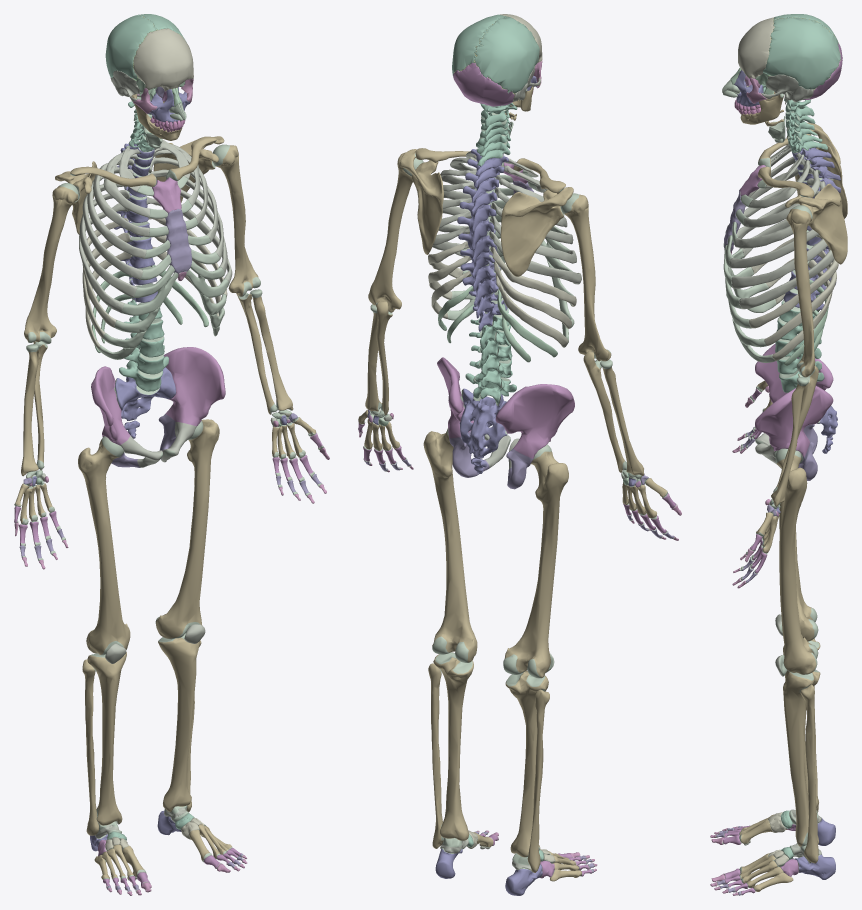
Rendered from bones.glb.
3 views of the same model, side by side, from view 1: azimuth 30°, elevation 25°; view 2: azimuth 150°, elevation 25°; view 3: azimuth 270°, elevation 25° (orthographic). The views are drawn at different scales.
Visible parts, largest first — view 1: femur__r, femur__l, hip_bone__l, tibia__l, frontal_bone, tibia__r, humerus__r, humerus__l, hip_bone__r, parietal_bone__r, sacrum, fibula__r (+18 smaller); view 2: femur__r, femur__l, hip_bone__r, scapula__r, parietal_bone__r, tibia__l, tibia__r, humerus__r, humerus__l, hip_bone__l, scapula__l, sacrum (+15 smaller); view 3: femur__l, parietal_bone__l, tibia__l, hip_bone__l, humerus__l, scapula__l, fibula__l, frontal_bone, hip_bone__r, radius__l, femur__r, seventh_rib__l (+28 smaller).
Boxes of the visible parts, bbox=[...] form: femur__r: bbox=[78, 436, 130, 655]; femur__l: bbox=[155, 419, 219, 639]; hip_bone__l: bbox=[158, 347, 225, 462]; tibia__l: bbox=[158, 633, 200, 811]; frontal_bone: bbox=[133, 28, 193, 91]; tibia__r: bbox=[87, 652, 126, 825]; humerus__r: bbox=[24, 183, 78, 344]; humerus__l: bbox=[212, 144, 260, 296]; hip_bone__r: bbox=[91, 366, 162, 467]; parietal_bone__r: bbox=[105, 15, 157, 79]; sacrum: bbox=[115, 367, 175, 420]; fibula__r: bbox=[82, 659, 99, 835]; femur__r: bbox=[503, 444, 568, 678]; femur__l: bbox=[423, 428, 477, 662]; hip_bone__r: bbox=[495, 384, 574, 489]; scapula__r: bbox=[500, 187, 573, 276]; parietal_bone__r: bbox=[474, 16, 539, 93]; tibia__l: bbox=[433, 652, 473, 840]; tibia__r: bbox=[505, 671, 548, 857]; humerus__r: bbox=[561, 193, 611, 361]; humerus__l: bbox=[368, 152, 423, 312]; hip_bone__l: bbox=[437, 357, 510, 477]; scapula__l: bbox=[400, 149, 443, 254]; sacrum: bbox=[459, 388, 507, 458]; femur__l: bbox=[775, 448, 818, 674]; parietal_bone__l: bbox=[763, 17, 840, 89]; tibia__l: bbox=[783, 669, 820, 846]; hip_bone__l: bbox=[755, 386, 833, 480]; humerus__l: bbox=[786, 205, 815, 377]; scapula__l: bbox=[785, 183, 847, 264]; fibula__l: bbox=[800, 684, 818, 863]; frontal_bone: bbox=[738, 17, 774, 78]; hip_bone__r: bbox=[755, 343, 833, 453]; radius__l: bbox=[771, 377, 808, 506]; femur__r: bbox=[779, 470, 818, 641]; seventh_rib__l: bbox=[739, 249, 834, 309].
Size of the model in its own units: 0.6693 by 1.7 by 0.2501.
